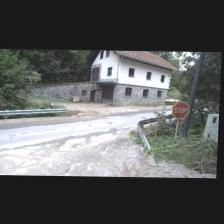Stop: (173, 101, 191, 118)
